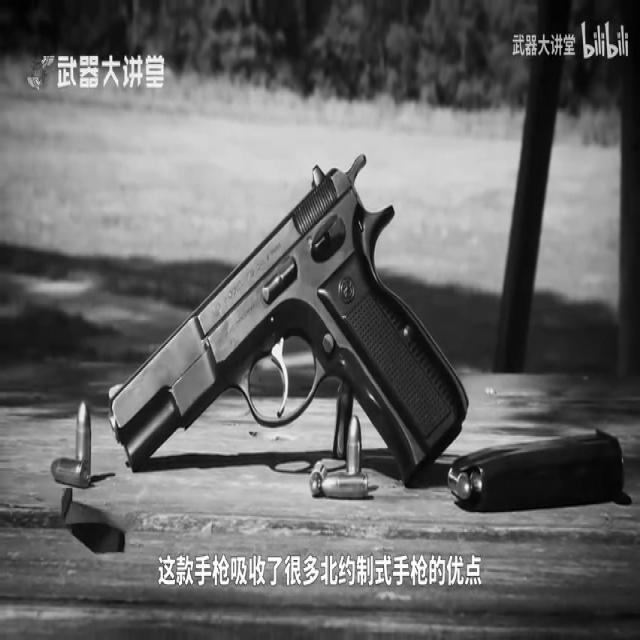Hand-Gun: (88, 108, 490, 552)
